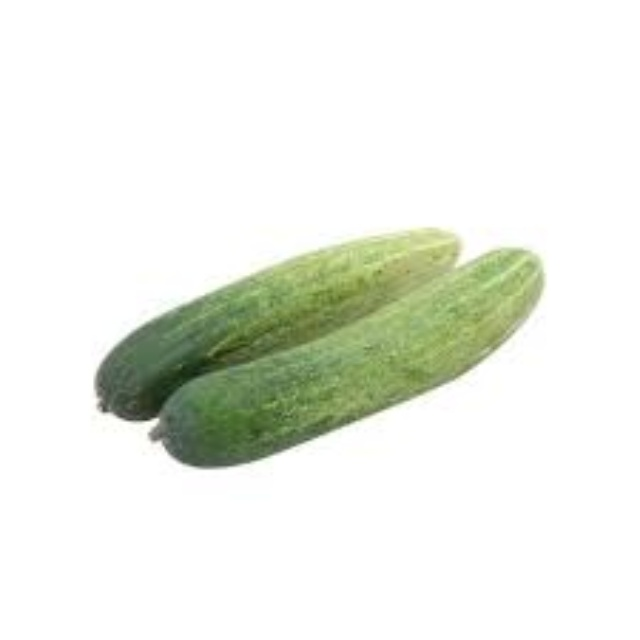dua_leo: (152, 248, 545, 469), (92, 227, 464, 426)
